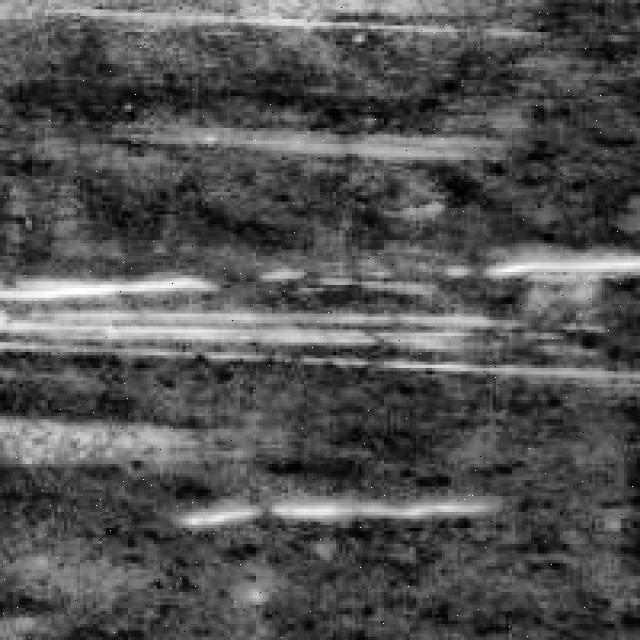Inclusion: (10, 275, 628, 368), (172, 483, 500, 538), (483, 240, 637, 282)
